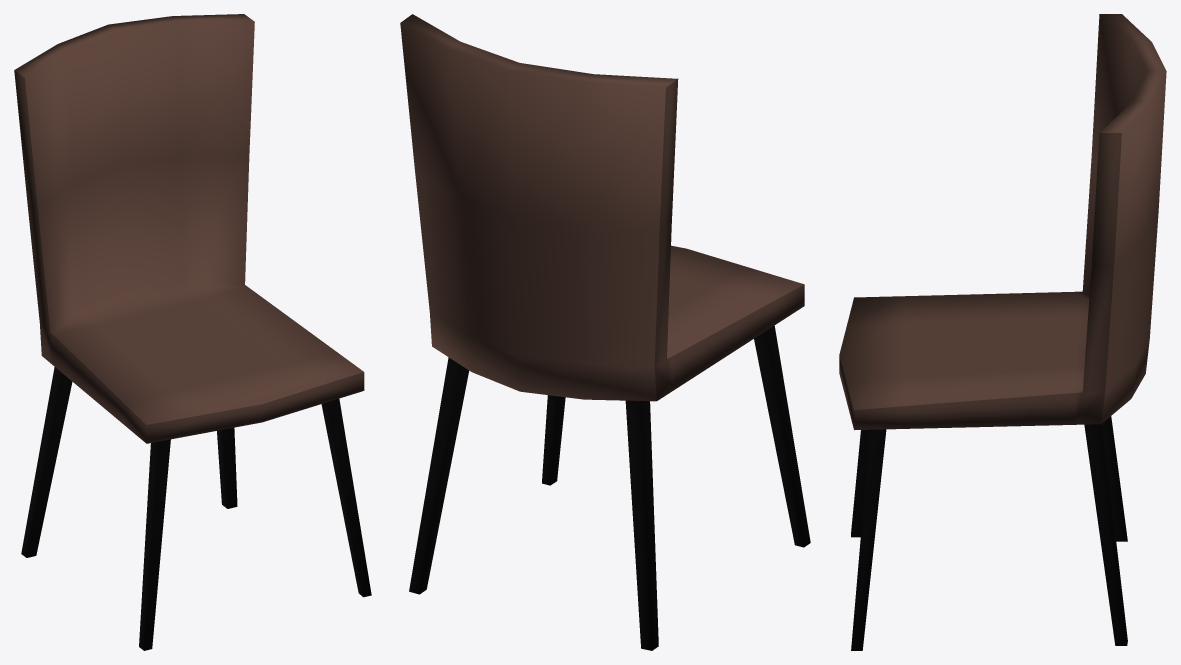
The model's file is furnishings-chairs-moderncafechair_v1.glb.
3 views of the same model, side by side, from view 1: azimuth 30°, elevation 25°; view 2: azimuth 150°, elevation 25°; view 3: azimuth 270°, elevation 25° (orthographic). The views are drawn at different scales.
Parts seen in each view (by area): view 1: ModernCafeChair.001; view 2: ModernCafeChair.001; view 3: ModernCafeChair.001.
Boxes of the visible parts, x1,y1,x2,y2 form: ModernCafeChair.001: (14, 14, 371, 650); ModernCafeChair.001: (400, 14, 810, 650); ModernCafeChair.001: (839, 14, 1166, 650).
Size of the model in its own units: 0.6062 by 1.23 by 0.7035.
